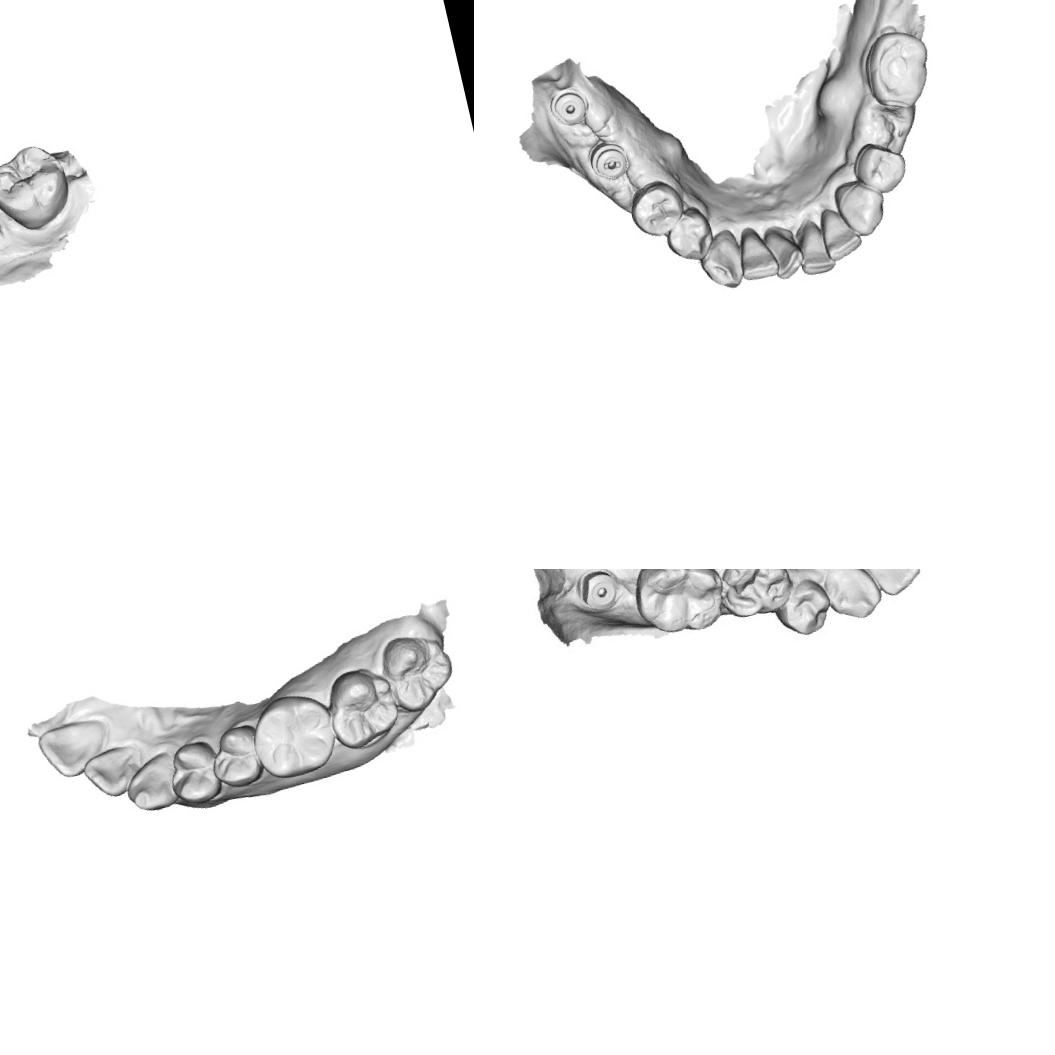canine: (118, 748, 184, 818), (830, 174, 892, 240), (693, 227, 749, 294), (823, 569, 888, 626)
implant: (544, 82, 594, 132), (573, 569, 624, 613)
implant_minus: (583, 134, 634, 185)
incisor: (34, 714, 116, 782), (78, 742, 150, 804), (732, 222, 782, 284), (790, 214, 838, 278), (816, 201, 864, 262), (761, 222, 808, 282), (861, 569, 924, 602)
molar: (244, 686, 344, 784), (627, 569, 733, 648), (0, 136, 78, 239), (376, 626, 462, 718), (856, 23, 939, 117), (321, 662, 404, 754), (713, 569, 796, 624)
premolar: (203, 720, 269, 792), (162, 736, 226, 810), (771, 572, 837, 642), (625, 174, 690, 242), (848, 136, 912, 200), (658, 201, 718, 266)
